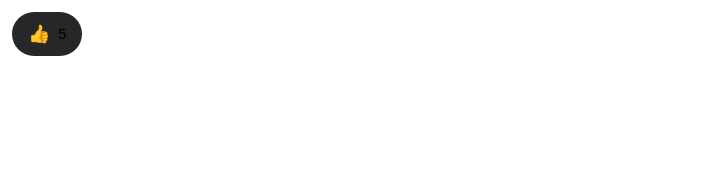
Test case: ReactionButton accessibility › shows error with role=alert when reaction fails
Click the button at (47, 34), box [12,12,82,56]
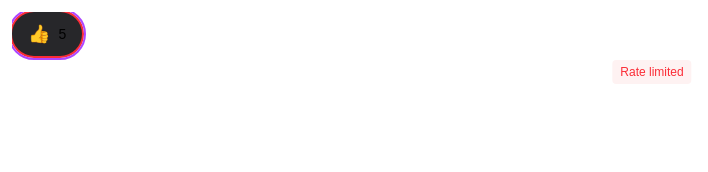
Result: the text "Rate limited" is shown at [612,60,692,84]
